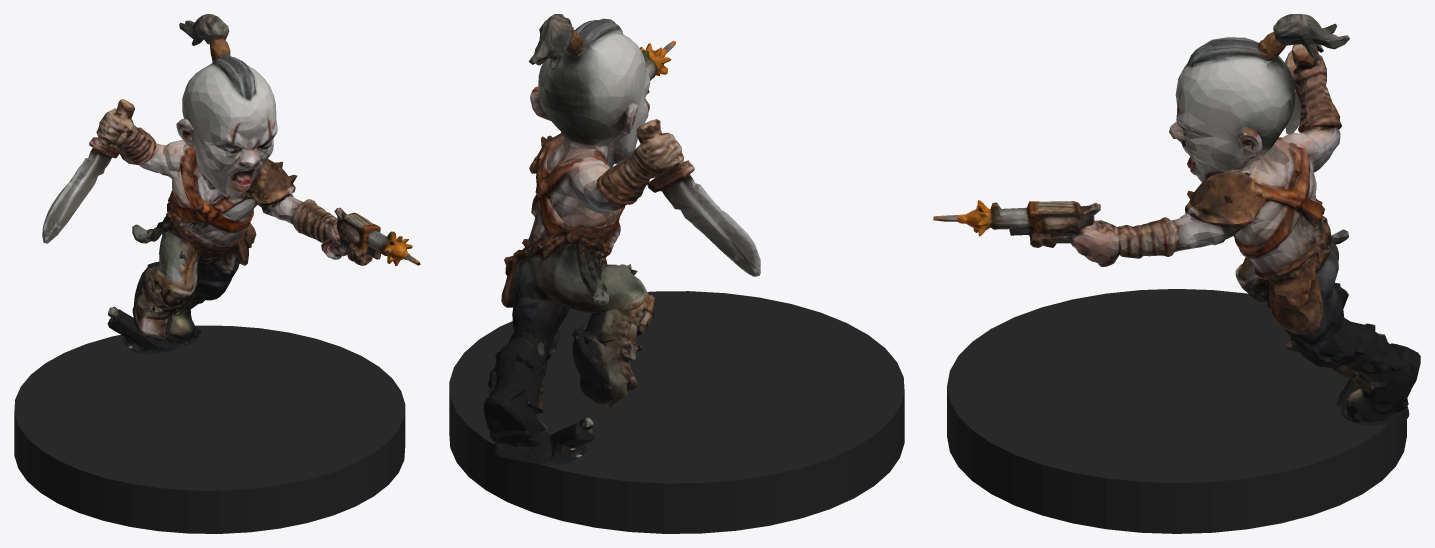
File: goliath-forge-born-knife-b.glb
3 renders of one model, left to right at view 1: azimuth 30°, elevation 25°; view 2: azimuth 150°, elevation 25°; view 3: azimuth 270°, elevation 25°, orthographic. The views are drawn at different scales.
Visible parts, largest first — view 1: base, figure; view 2: base, figure; view 3: base, figure.
Boxes of the visible parts, x1,y1,x2,y2 form: base: [14, 325, 405, 533]; figure: [42, 14, 420, 354]; base: [449, 291, 904, 533]; figure: [483, 14, 760, 464]; base: [947, 289, 1406, 533]; figure: [933, 14, 1420, 425].
Bounding box in the file's own units: 0.9843 × 1.07 × 1.04.
Materials: 2 (1 with a texture image).
